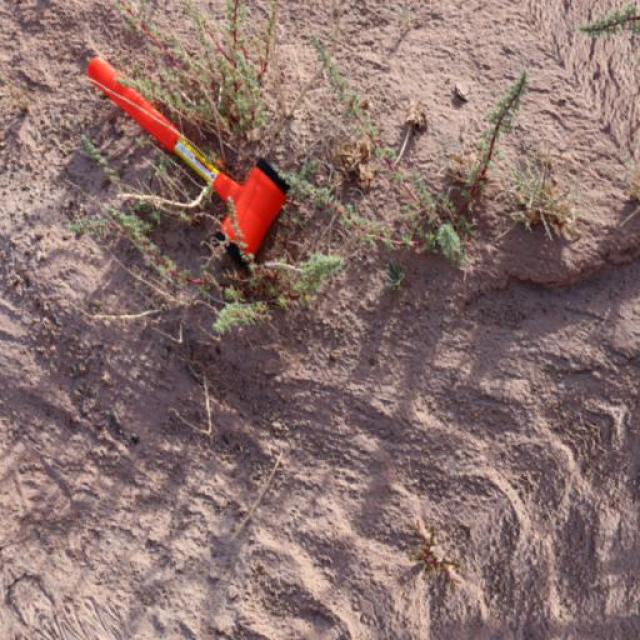mallet: (84, 52, 291, 266)
